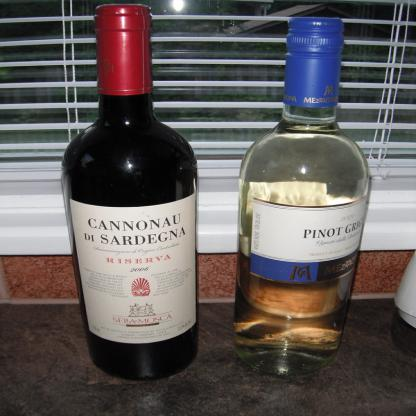drinking: (62, 4, 198, 382), (233, 17, 370, 375)
